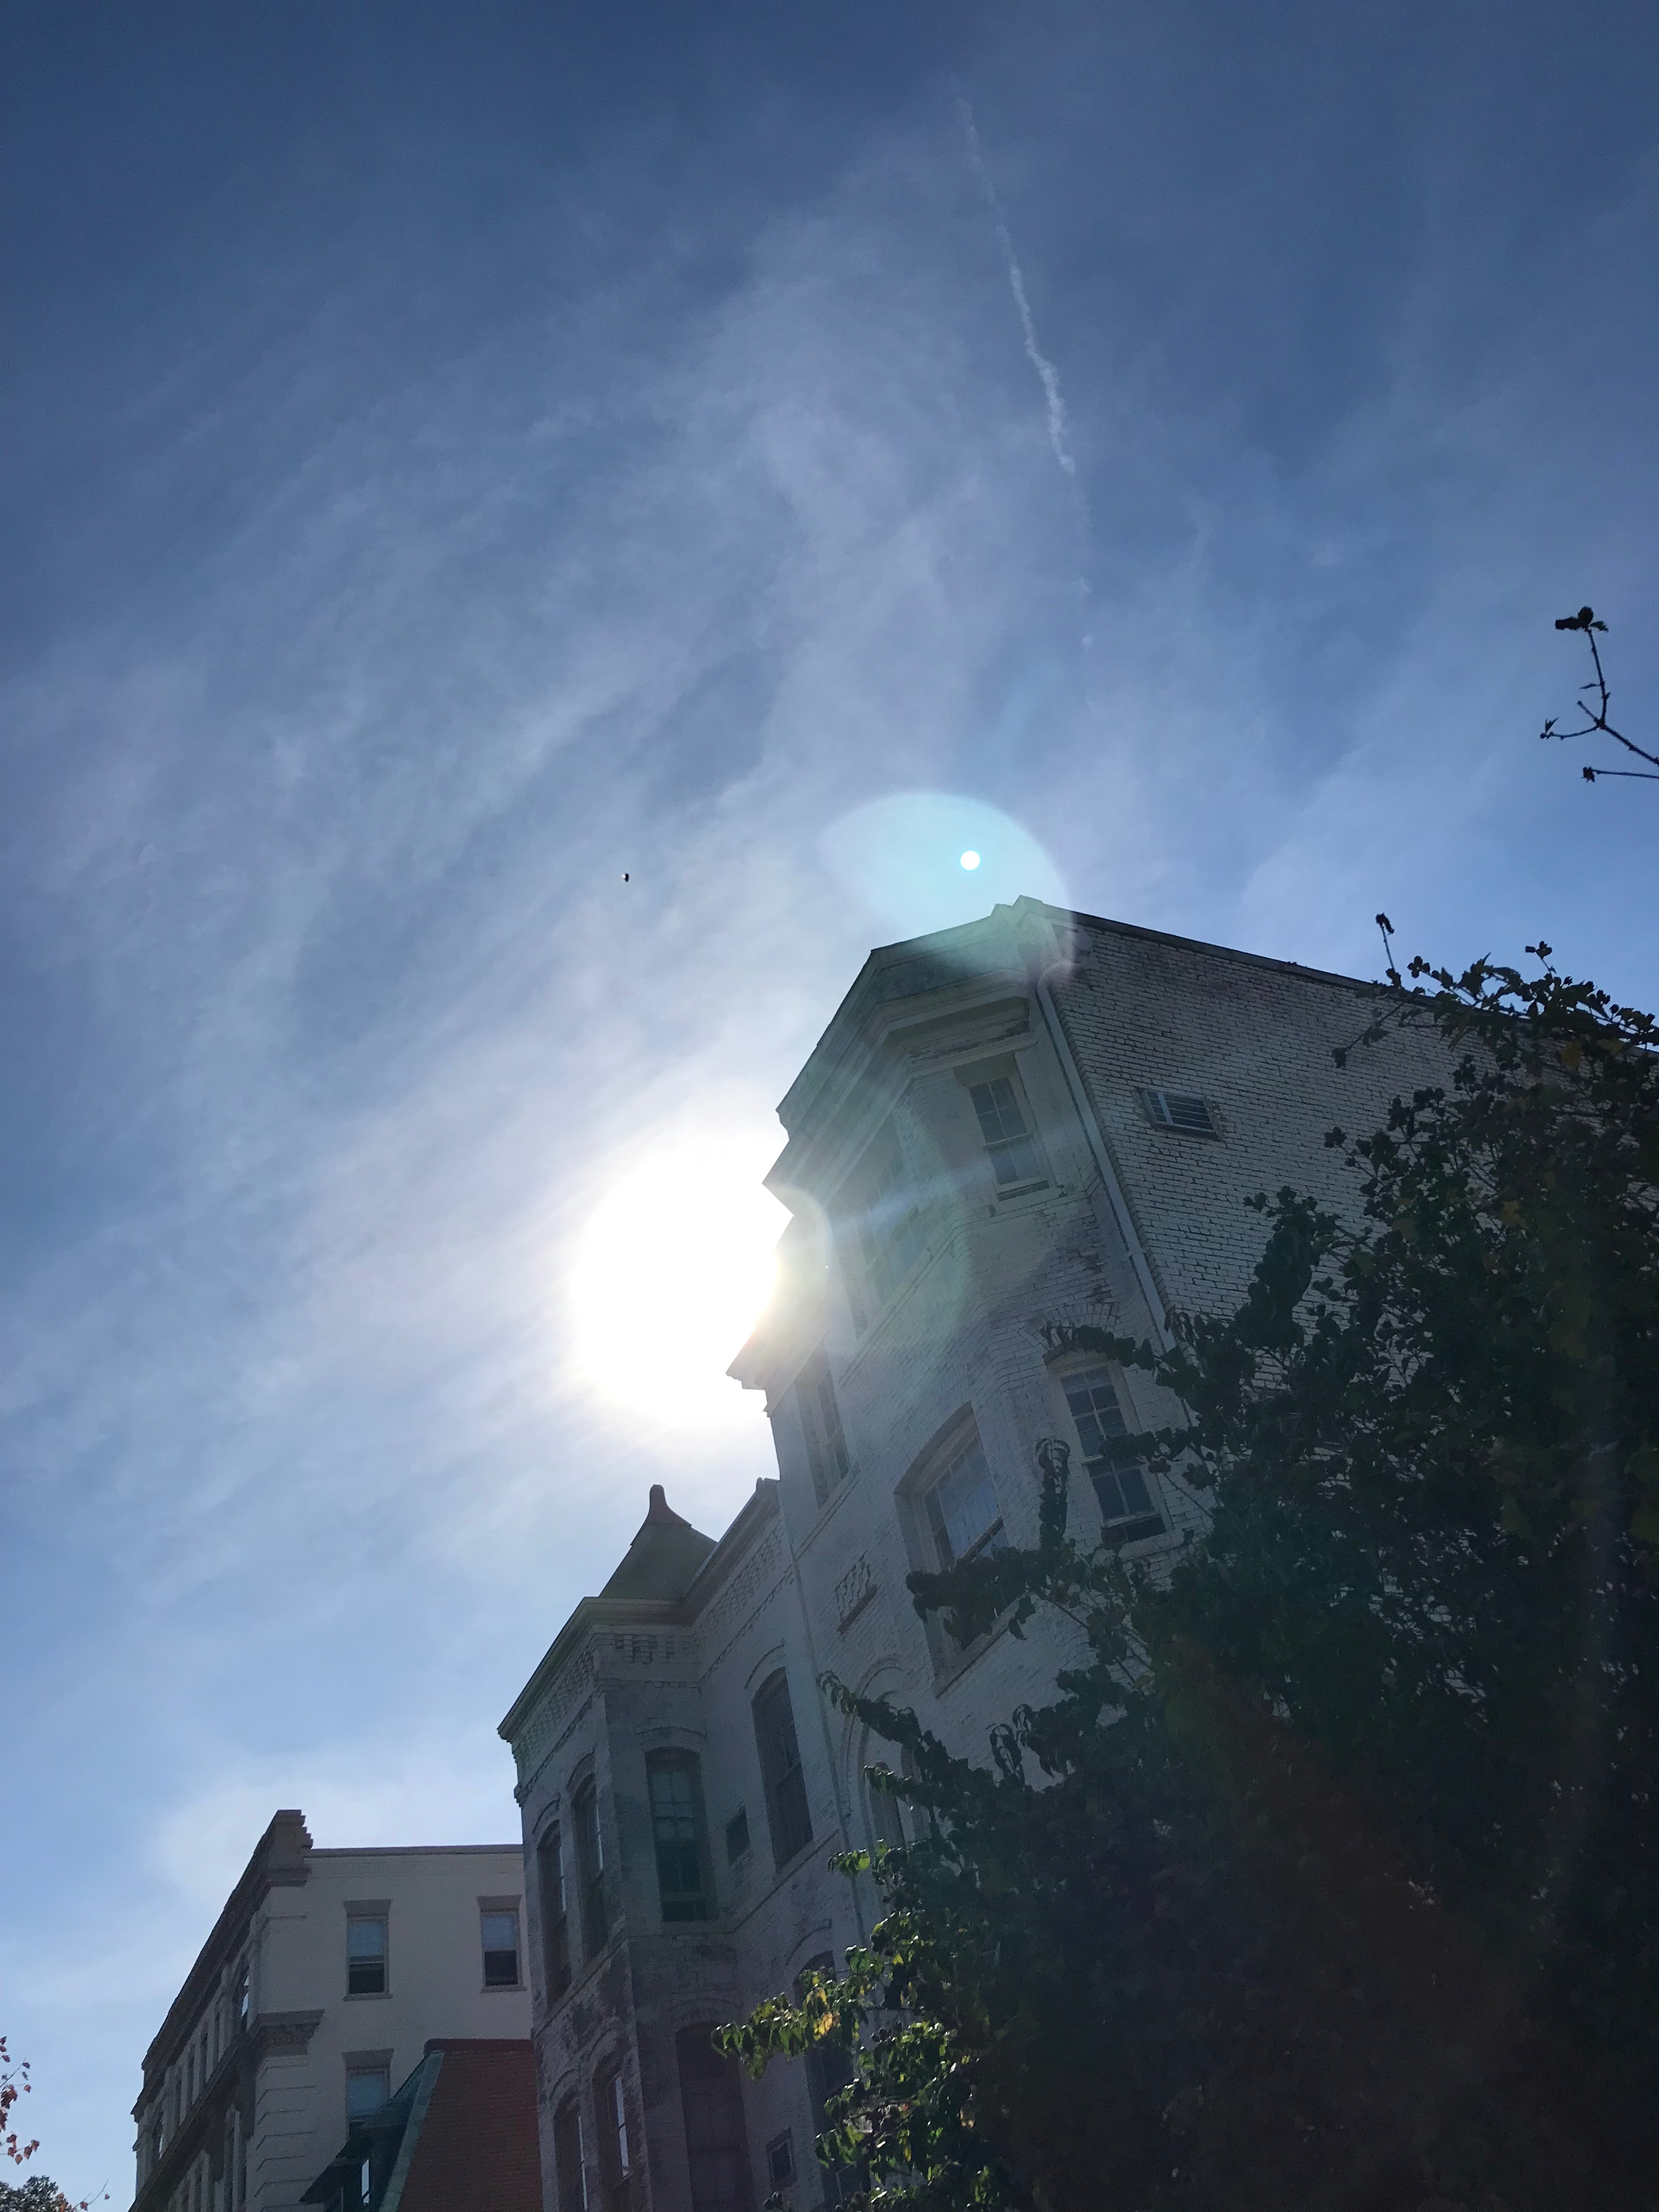flare: (958, 848, 983, 873)
